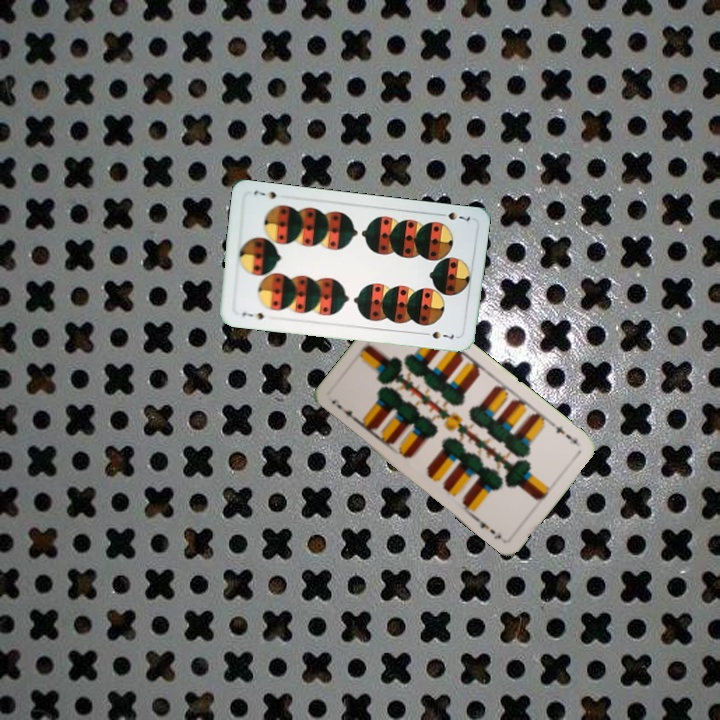E7: (552, 421, 581, 447), (332, 400, 361, 425)
S7: (434, 208, 473, 223), (238, 308, 266, 322)
